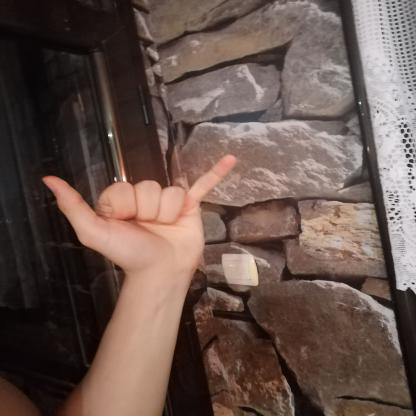YA: (27, 143, 254, 282)
